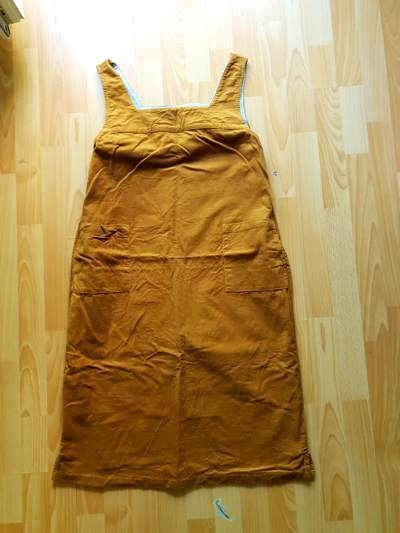Dress: (25, 45, 304, 512)
